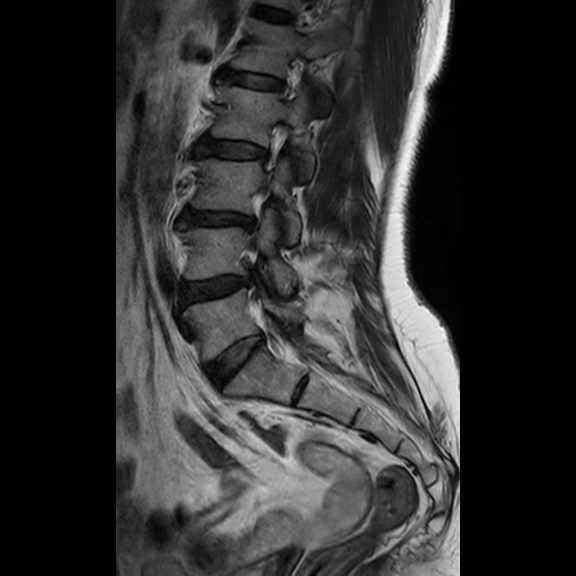LFS0: (245, 113, 295, 179), (263, 47, 311, 111)
